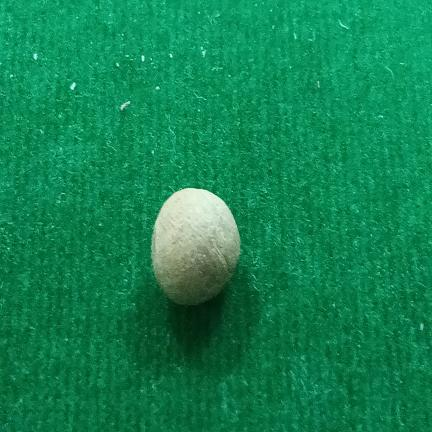good: (151, 188, 240, 305)
